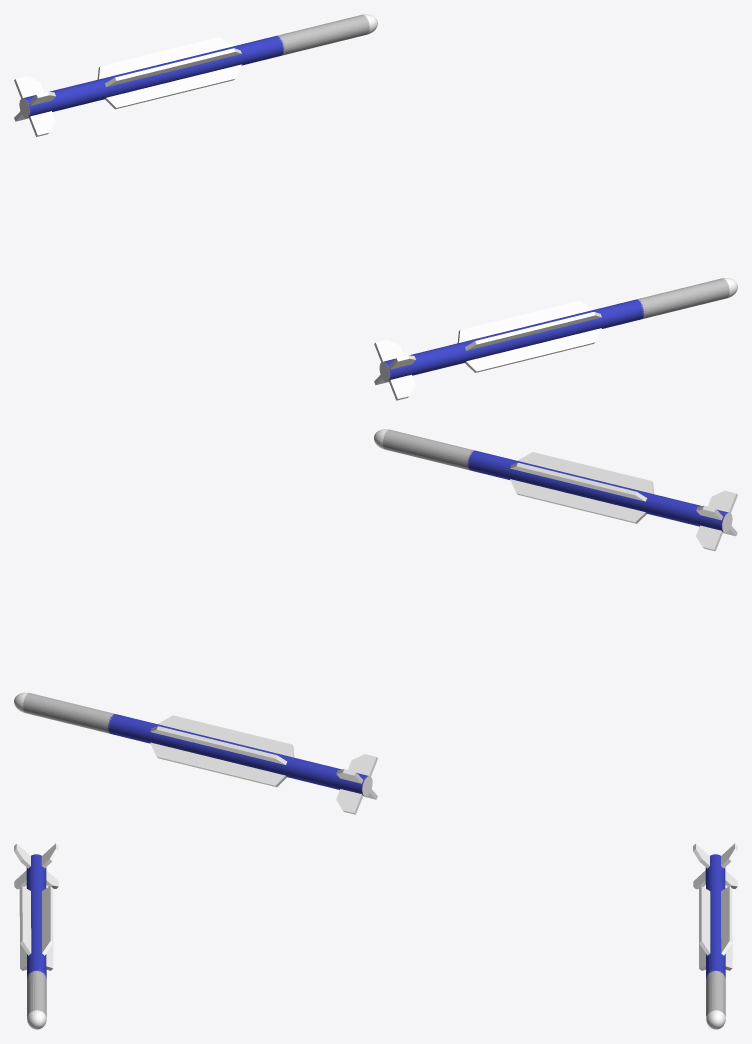
Rendered from aam5df2a34.glb.
The picture shows the model from 3 angles, top to bottom: view 1: azimuth 30°, elevation 25°; view 2: azimuth 150°, elevation 25°; view 3: azimuth 270°, elevation 25°; orthographic projection. The views are drawn at different scales.
Visible parts, largest first — view 1: 立方体.045, 立方体.016; view 2: 立方体.045, 立方体.016; view 3: 立方体.045, 立方体.016.
Part boxes in pixels (<box>): 立方体.045: <box>374,278,737,400</box>; 立方体.016: <box>14,14,377,136</box>; 立方体.045: <box>374,429,737,551</box>; 立方体.016: <box>14,692,377,814</box>; 立方体.045: <box>14,843,58,1029</box>; 立方体.016: <box>693,843,737,1029</box>.
Size of the model in its own units: 4.09 by 0.4776 by 7.71.
3 materials, 1 textured.
